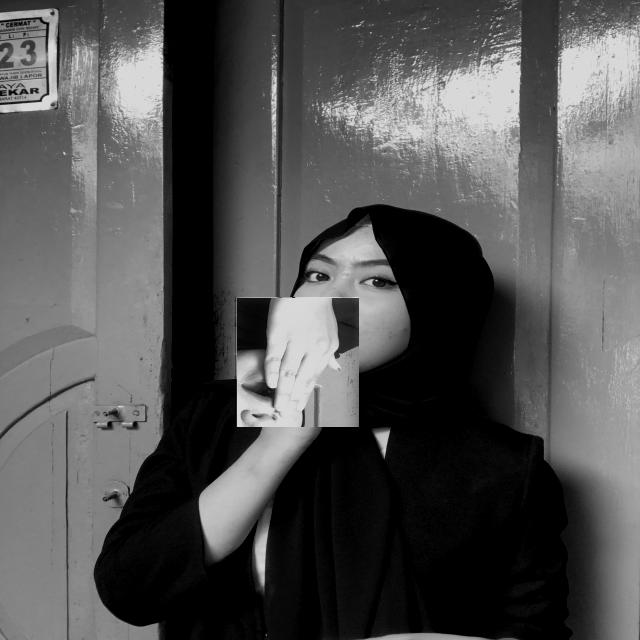ngantuk: (234, 297, 358, 427)
